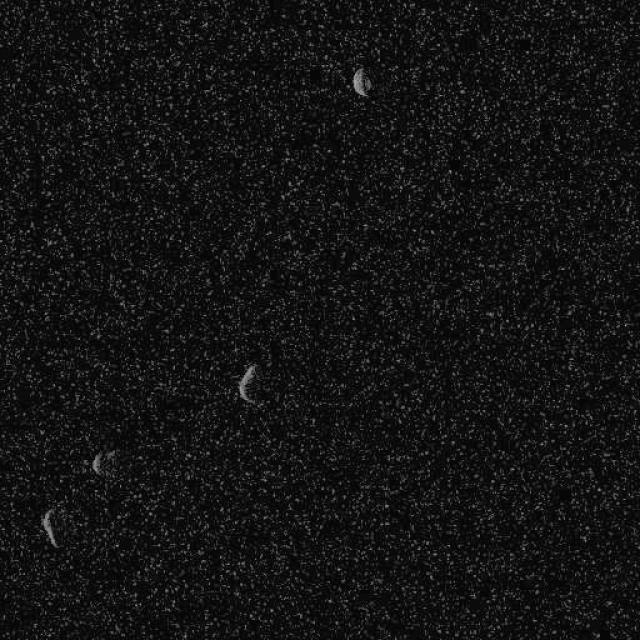D2: (236, 362, 262, 406), (39, 507, 60, 548), (90, 448, 118, 478), (351, 66, 371, 98)
